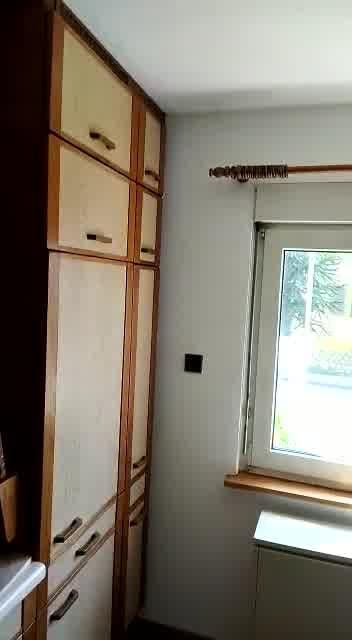cabinet_door: (45, 251, 113, 524), (52, 35, 138, 165), (46, 149, 135, 254), (49, 562, 118, 640), (130, 263, 153, 476), (47, 521, 118, 562), (123, 504, 151, 597), (138, 108, 165, 189), (136, 193, 161, 260)
handle: (51, 587, 80, 626), (72, 527, 102, 559), (87, 125, 118, 155), (52, 515, 79, 548), (127, 501, 149, 539), (139, 160, 163, 190), (84, 226, 114, 249), (128, 452, 149, 476)
